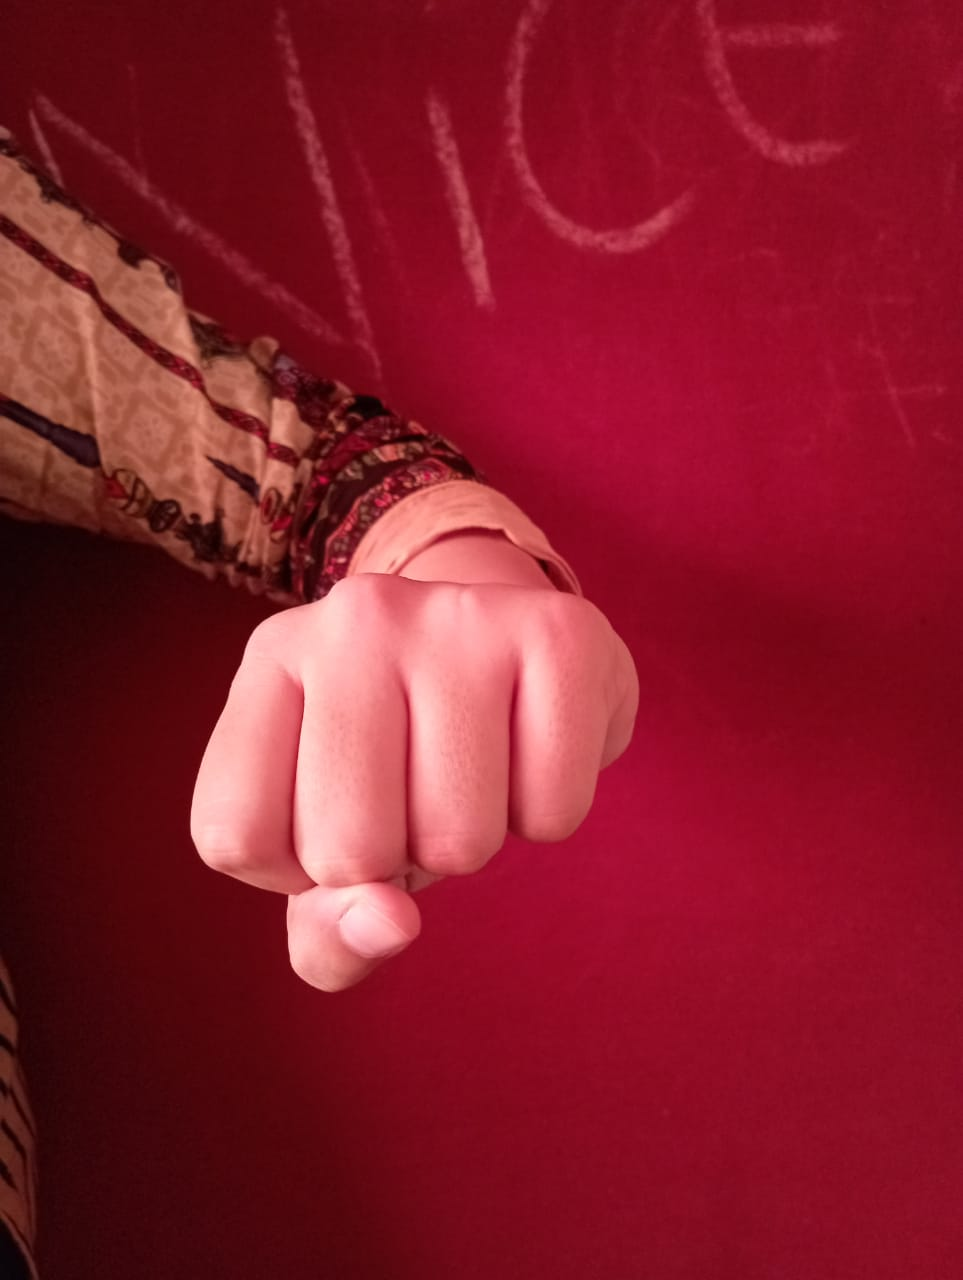BroCode: (182, 557, 650, 1004)
